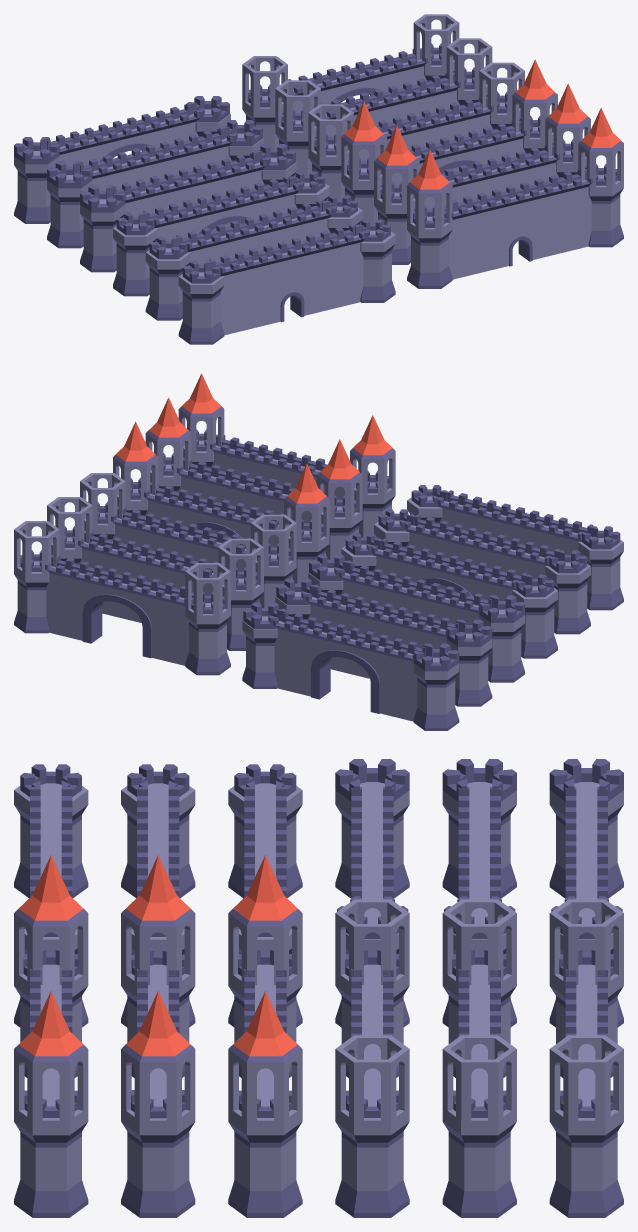
The model's file is Castle wall.fbx.
3 renders of one model, top to bottom at view 1: azimuth 30°, elevation 25°; view 2: azimuth 150°, elevation 25°; view 3: azimuth 270°, elevation 25°, orthographic. The views are drawn at different scales.
Parts seen in each view (by area): view 1: wall_battlement (×49), wall (×32), hexagon_arches (×12), hexagon_overhang (×17), hexagon_base (×10), hexagon_castleBattlementEntry (×12), wall_gate (×6), hexagon_roof (×6); view 2: wall_battlement (×43), hexagon_arches (×12), hexagon_overhang (×16), hexagon_base (×10), wall_gate (×4), hexagon_castleBattlementEntry (×12), wall (×8), hexagon_roof (×6); view 3: hexagon_arches (×12), hexagon_overhang (×18), hexagon_base (×12), hexagon_roof (×6), hexagon_castleBattlementEntry (×6), wall_gate (×3).
Boxes of the visible parts, left/top/right/bottom form: wall_battlement (×49): left=47, top=49, right=592, bottom=276; wall (×32): left=110, top=91, right=591, bottom=335; hexagon_arches (×12): left=242, top=14, right=623, bottom=229; hexagon_overhang (×17): left=14, top=96, right=623, bottom=313; hexagon_base (×10): left=14, top=186, right=623, bottom=344; hexagon_castleBattlementEntry (×12): left=14, top=96, right=390, bottom=283; wall_gate (×6): left=77, top=66, right=534, bottom=322; hexagon_roof (×6): left=341, top=59, right=623, bottom=193; wall_battlement (×43): left=73, top=441, right=593, bottom=661; hexagon_arches (×12): left=14, top=409, right=395, bottom=615; hexagon_overhang (×16): left=14, top=482, right=623, bottom=699; hexagon_base (×10): left=14, top=572, right=623, bottom=730; wall_gate (×4): left=75, top=501, right=494, bottom=715; hexagon_castleBattlementEntry (×12): left=243, top=485, right=620, bottom=671; wall (×8): left=46, top=568, right=424, bottom=721; hexagon_roof (×6): left=113, top=373, right=395, bottom=507; hexagon_arches (×12): left=14, top=899, right=623, bottom=1120; hexagon_overhang (×18): left=14, top=782, right=623, bottom=1166; hexagon_base (×12): left=14, top=839, right=623, bottom=1217; hexagon_roof (×6): left=14, top=855, right=301, bottom=1062; hexagon_castleBattlementEntry (×6): left=20, top=759, right=623, bottom=801; wall_gate (×3): left=255, top=824, right=597, bottom=1073.
Size of the model in its own units: 152 by 44 by 114.
